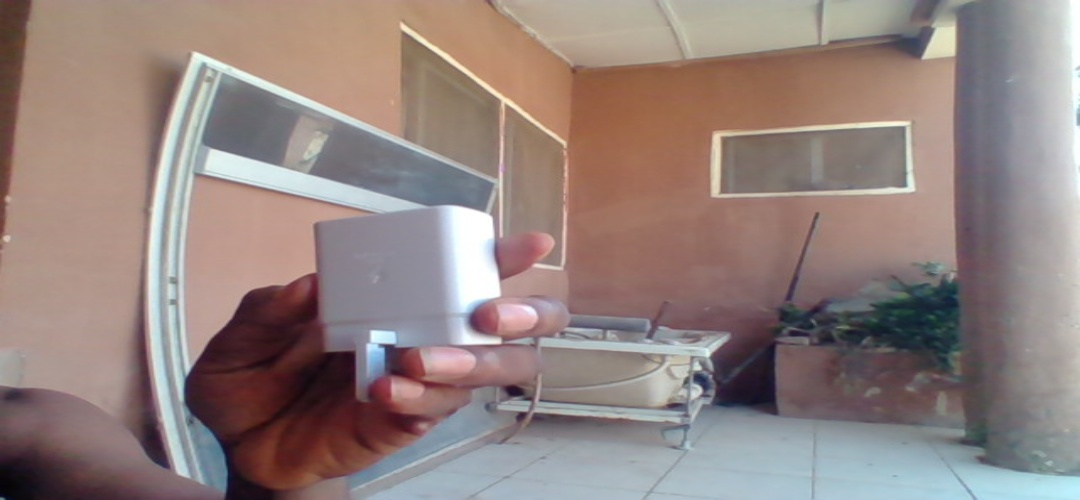phone_charger: (302, 216, 506, 388)
